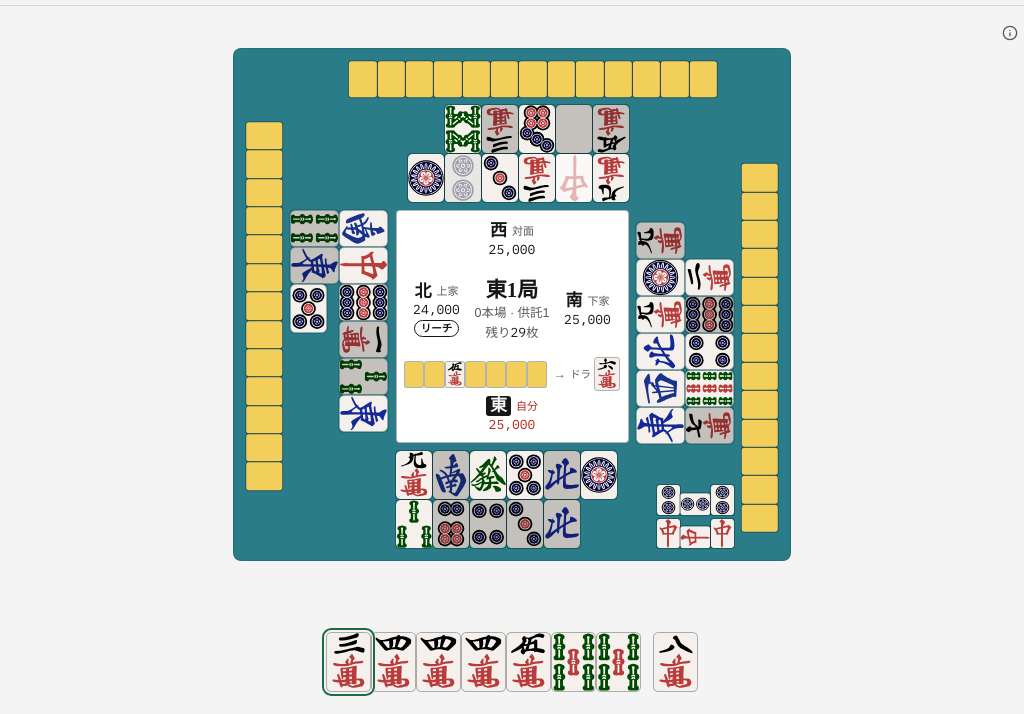
Test case: U-53 切り替え: 設定から始まり、押すと保存し、キーでも切り替わる › 読みの説明のアイコンは置かない（隣の「盤面の見方」と同じ形が並ぶため）。吹き出しの下に、待たれる確率であること・ロンできるかは含まないこと・モデルの出どころが書いてある
Click the button named "を切る": (676, 662) [654,634,697,691]
(page scrolled)
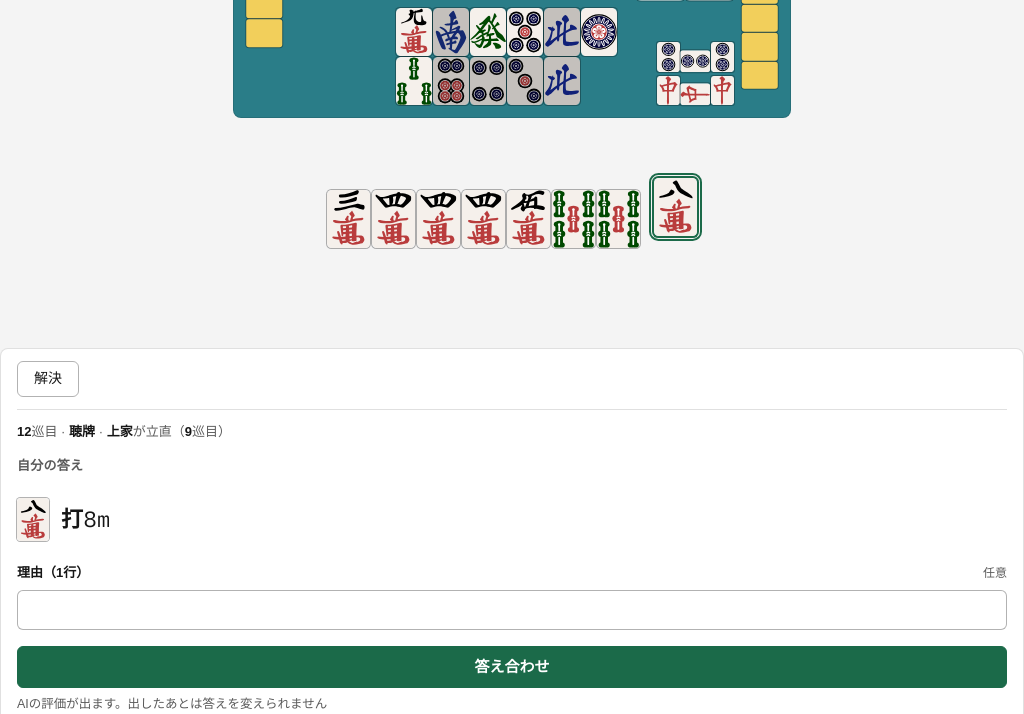
In the field labelled "理由（1行）": (512, 610) [17,590,1007,630], type "待ちを避けて"
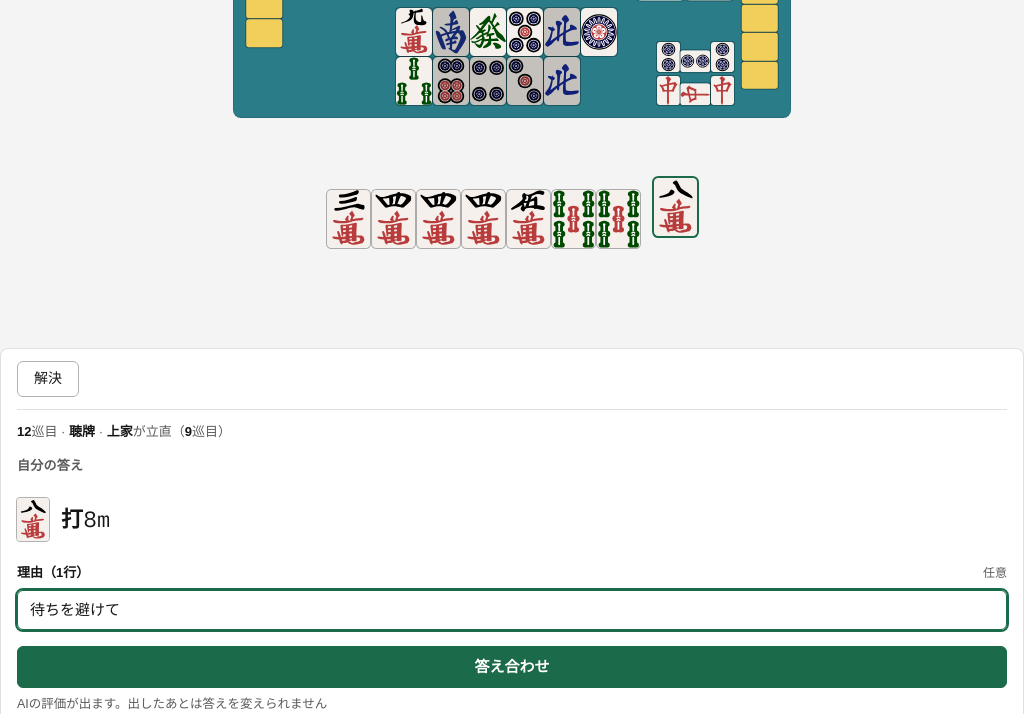
Click the button "答え合わせ": (512, 667) [17,646,1007,688]
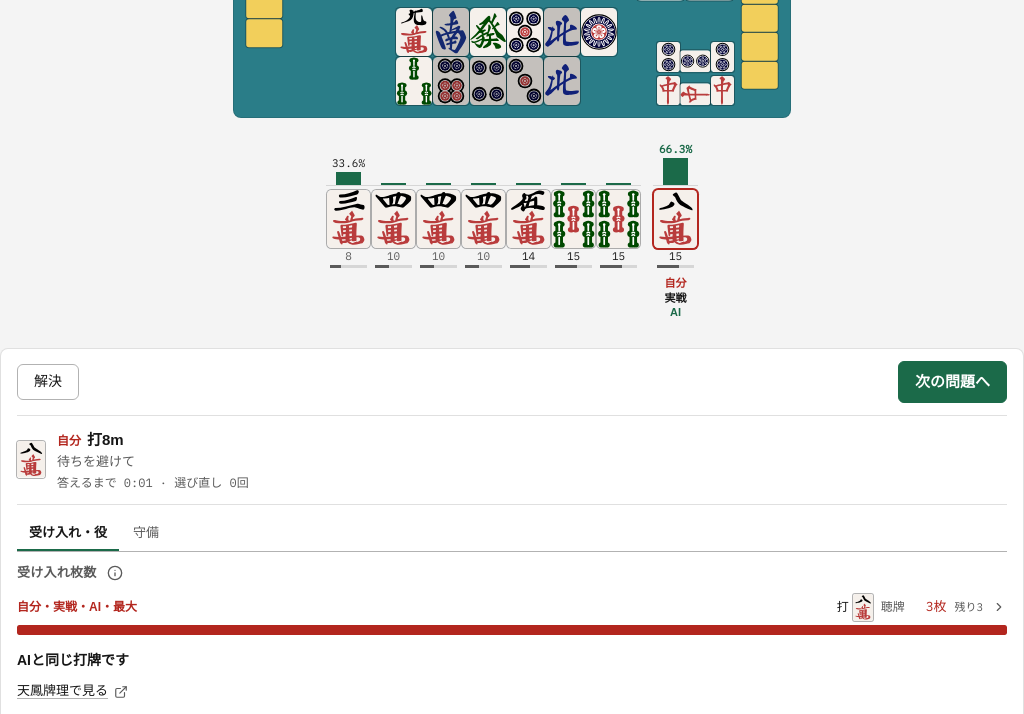
Click the button with class "rd-cell" showing "8": (348, 259) [327,248,370,270]
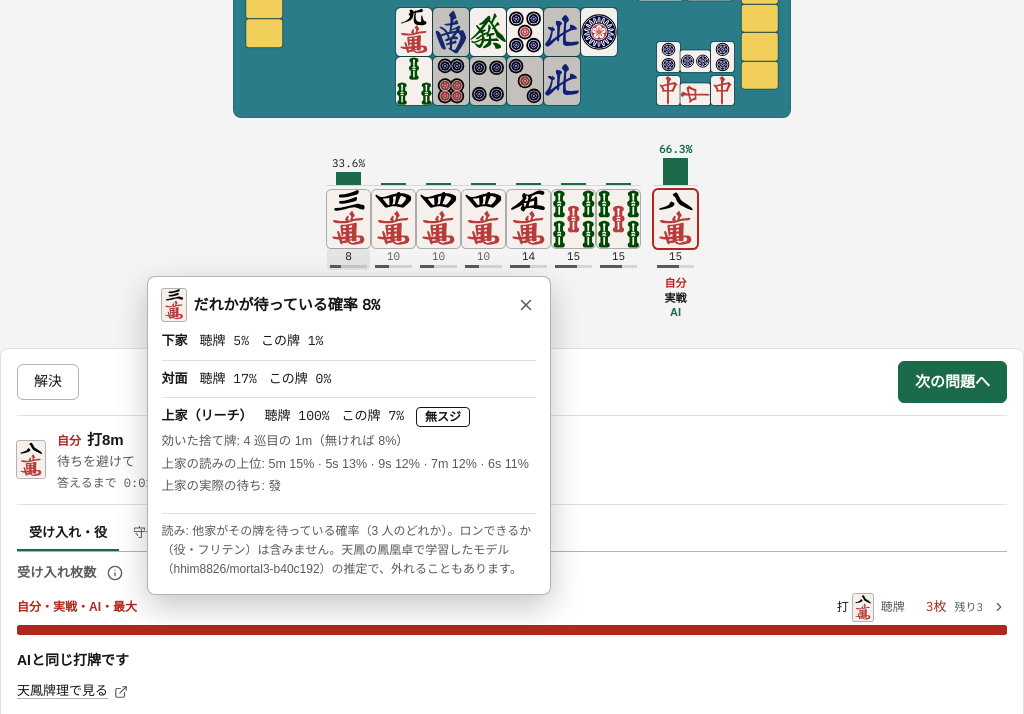
expect the text with class "rd-note" shows "読み: 他家がその牌を待っている確率（3 人のどれか）。ロンできるか（役・フリテン）は含みません。天鳳の鳳凰卓で学習したモデル（hhim8826/mortal3-b40c192）の推定で、外れることもあります。": met, box [162,524,531,576]
